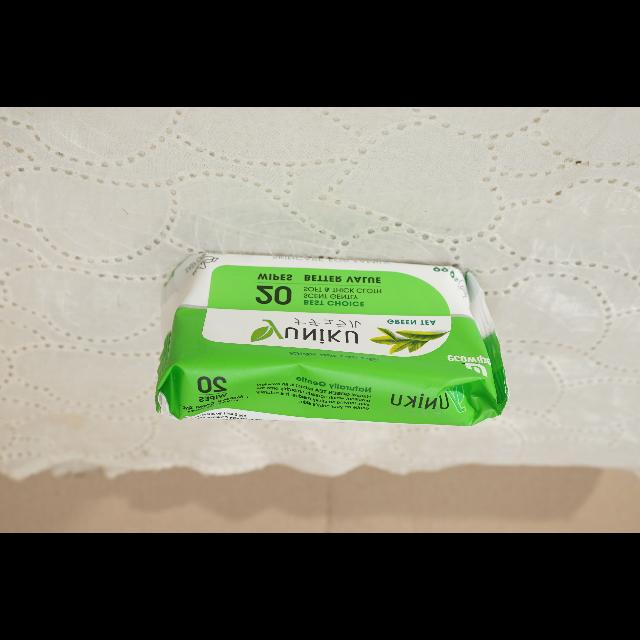khan_giay: (155, 253, 508, 426)
